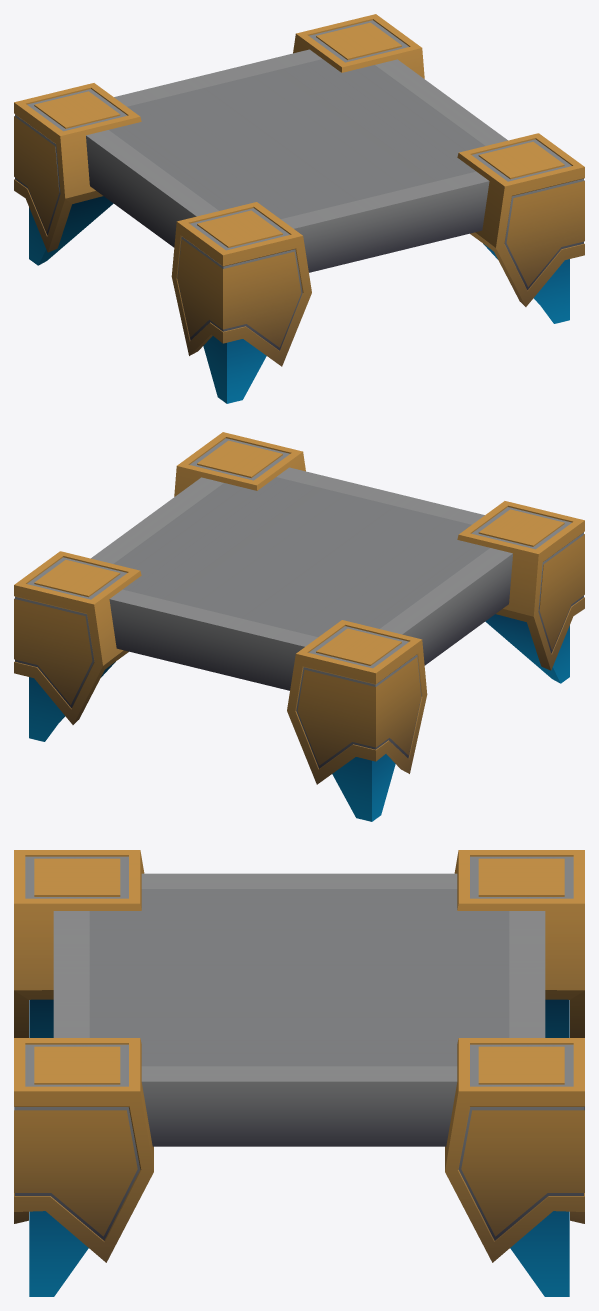
File: Plataforma.fbx
The picture shows the model from 3 angles, top to bottom: view 1: azimuth 30°, elevation 25°; view 2: azimuth 150°, elevation 25°; view 3: azimuth 270°, elevation 25°; orthographic projection. The views are drawn at different scales.
Parts seen in each view (by area): view 1: Plataforma; view 2: Plataforma; view 3: Plataforma.
Part boxes in pixels (x1,y1,x2,y2): Plataforma: [14, 14, 584, 403]; Plataforma: [14, 432, 584, 821]; Plataforma: [14, 850, 584, 1296].
Bounding box in the file's own units: 600 × 245 × 600.
